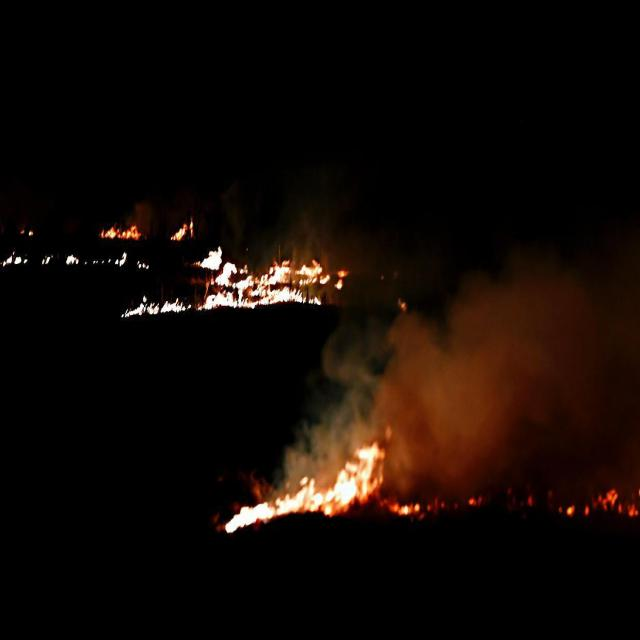fire: (222, 431, 639, 524), (86, 222, 348, 328)
